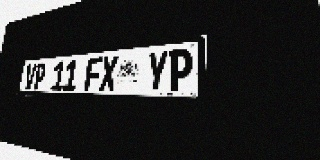1: (62, 59, 79, 90), (51, 60, 66, 90)
F: (84, 57, 102, 91)
P: (167, 48, 193, 92), (33, 62, 47, 90)
V: (24, 63, 37, 90)
X: (99, 55, 118, 91)
Y: (145, 50, 169, 92)
